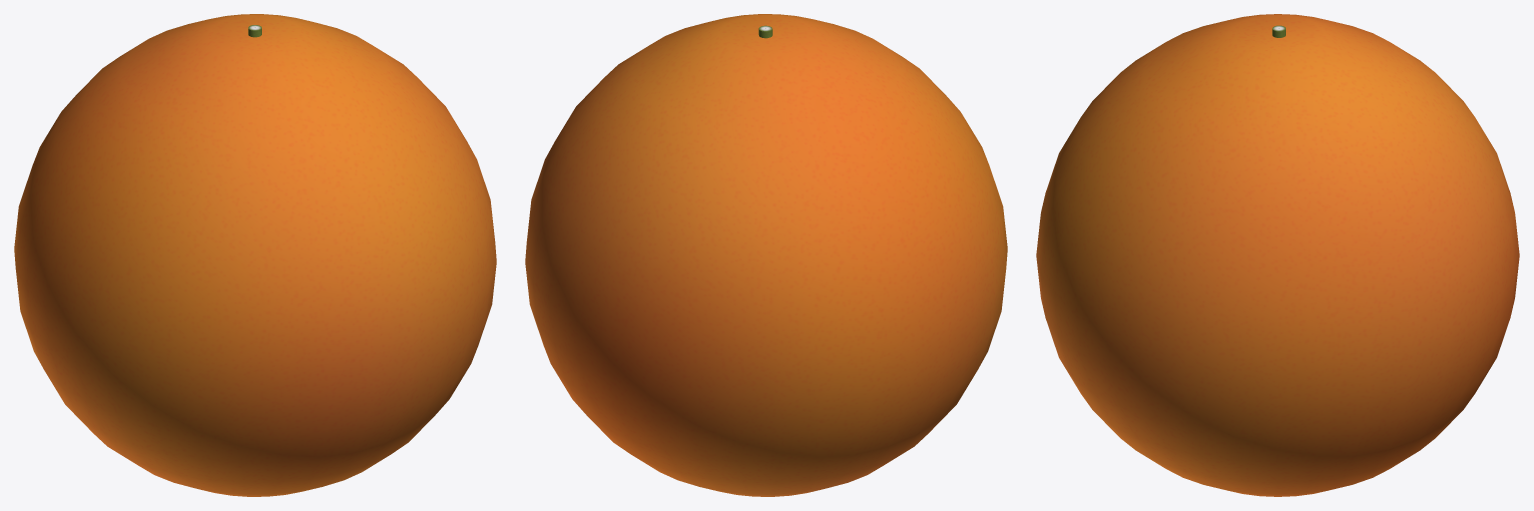
Rendered from orange.glb.
3 renders of one model, left to right at view 1: azimuth 30°, elevation 25°; view 2: azimuth 150°, elevation 25°; view 3: azimuth 270°, elevation 25°, orthographic.
Visible parts, largest first — view 1: Orange; view 2: Orange; view 3: Orange.
Part boxes in pixels (box(x1,y1,x2,y2)): Orange: box(14, 14, 496, 496); Orange: box(525, 14, 1007, 496); Orange: box(1036, 14, 1519, 496).
Bounding box in the file's own units: 0.1151 × 0.1161 × 0.1151.
Materials: 1 (1 with a texture image).
